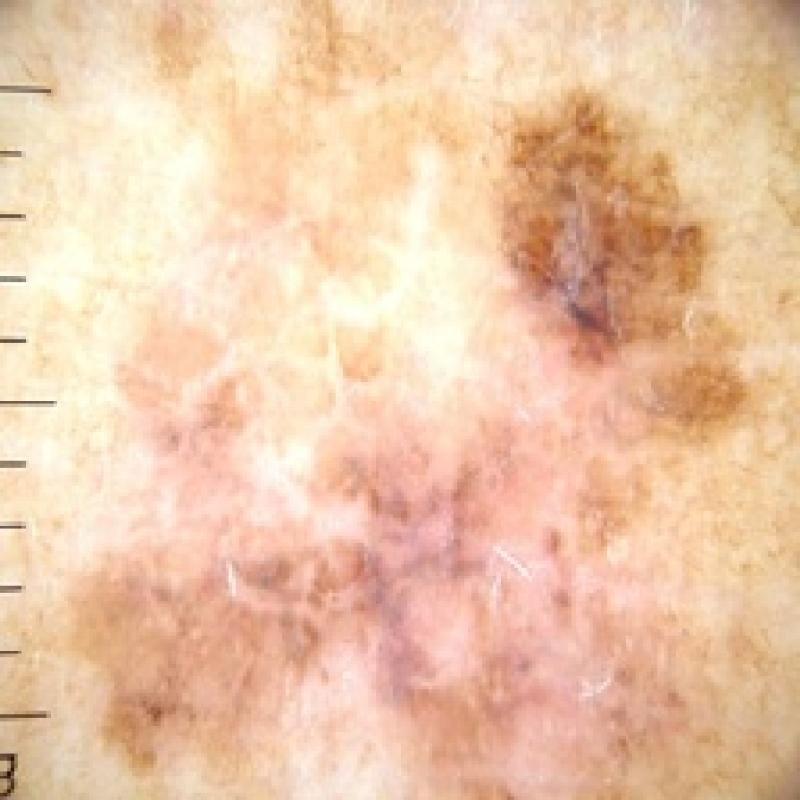malignant: (71, 21, 736, 800)
